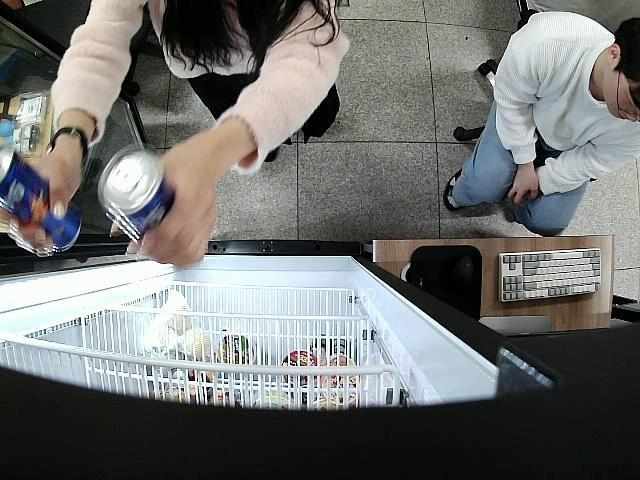16_hot6: (0, 150, 83, 250), (95, 144, 174, 246)
